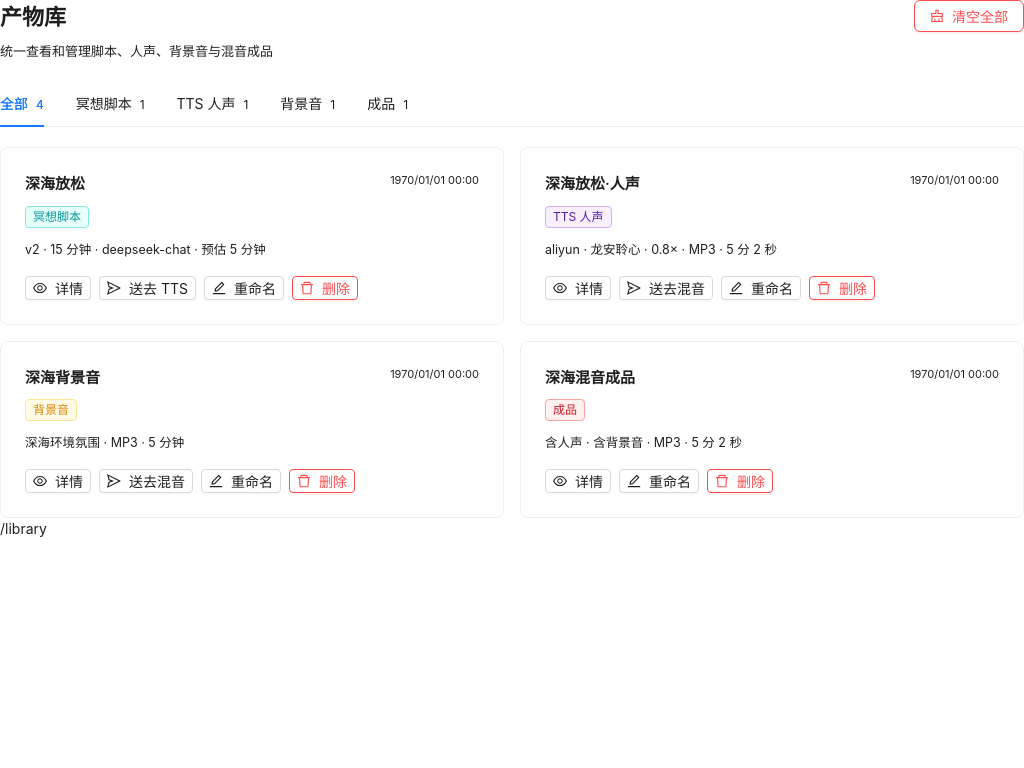
LibraryPage › restores a historical script version to the conversation draft
The image size is (1024, 768).
expect the text "深海放松" is shown: met, box [25,172,85,196]
What coordinates should you click on to do the following:
click the button "详情" below "v2 · 15 分钟 · deepseek-chat · 预估 5 分钟"
I would click on:
 (58, 288)
Its box is [25,276,91,300].
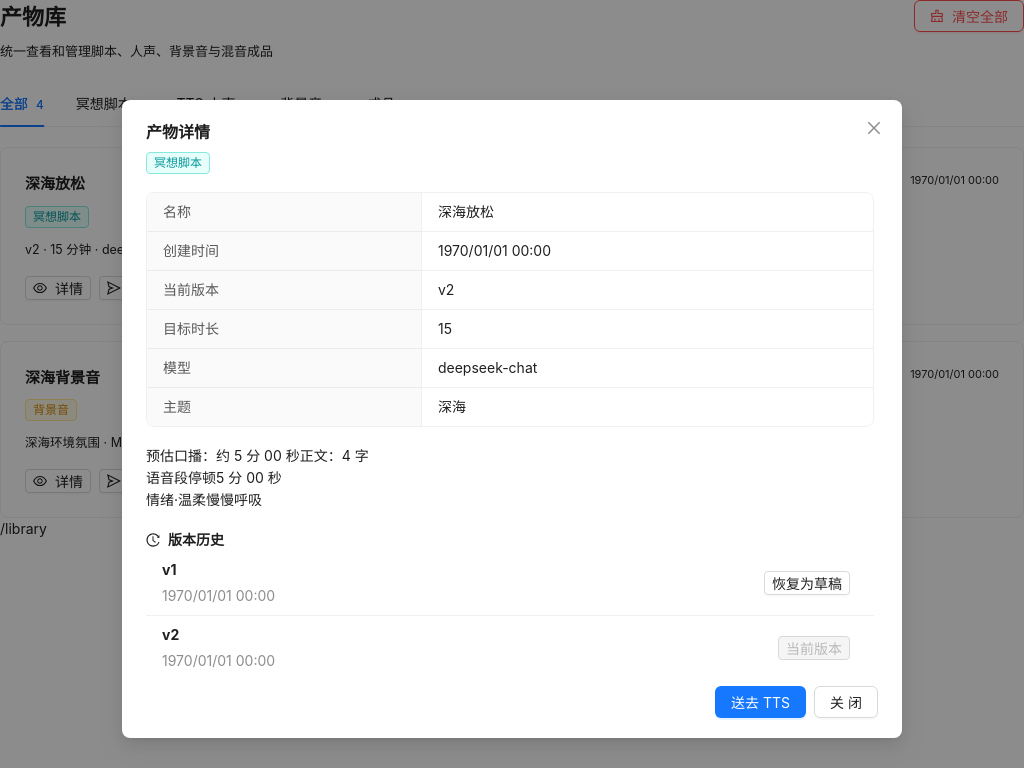
What coordinates should you click on to do the following:
click the button "恢复为草稿"
I would click on:
 (807, 583)
Its box is [764,571,850,595].
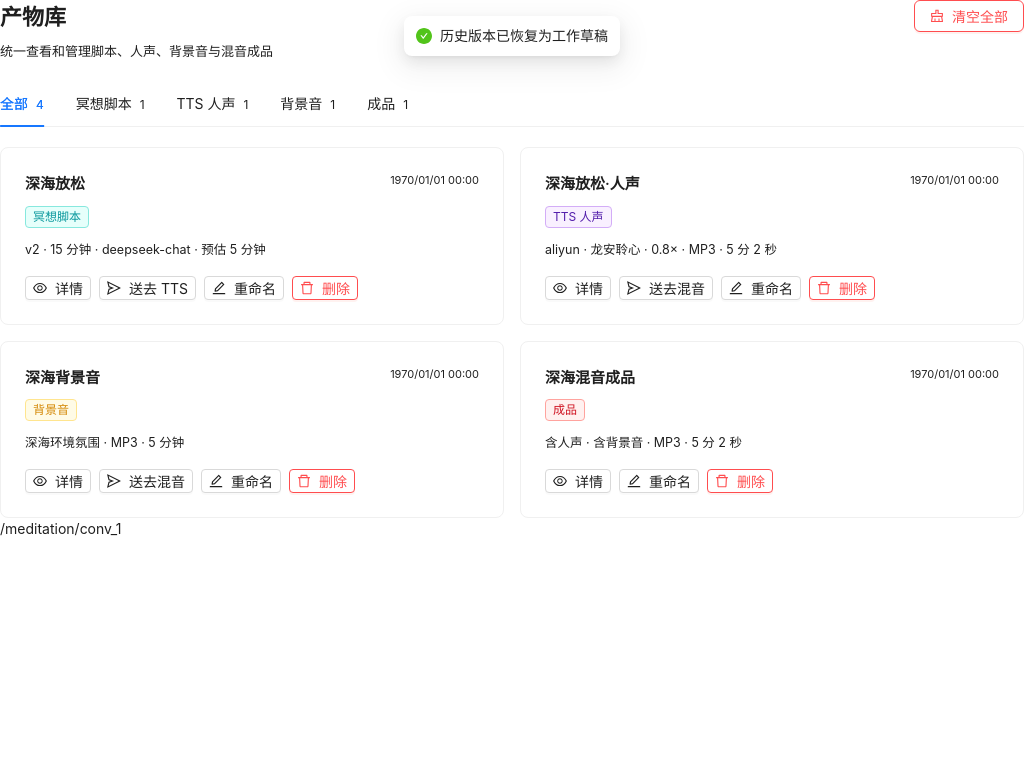
expect the text with test id "location" reads "/meditation/conv_1": met, box [0,520,121,537]
